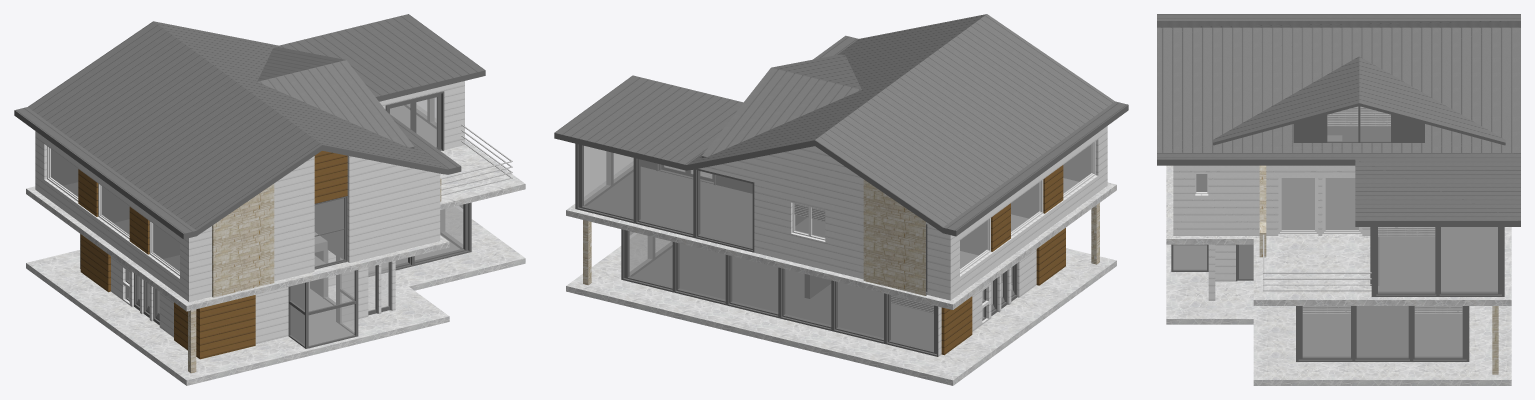
The model's file is casa2.glb.
3 renders of one model, left to right at view 1: azimuth 30°, elevation 25°; view 2: azimuth 150°, elevation 25°; view 3: azimuth 270°, elevation 25°, orthographic. The views are drawn at different scales.
Visible parts, largest first — view 1: root; view 2: root; view 3: root.
Boxes of the visible parts, left/top/right/bottom form: root: left=14, top=14, right=525, bottom=385; root: left=554, top=14, right=1128, bottom=385; root: left=1157, top=14, right=1520, bottom=385.
Size of the model in its own units: 14.98 by 7.7 by 11.13.
12 materials, 7 textured.
